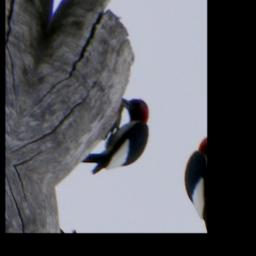Woodpecker: (77, 78, 161, 199)
